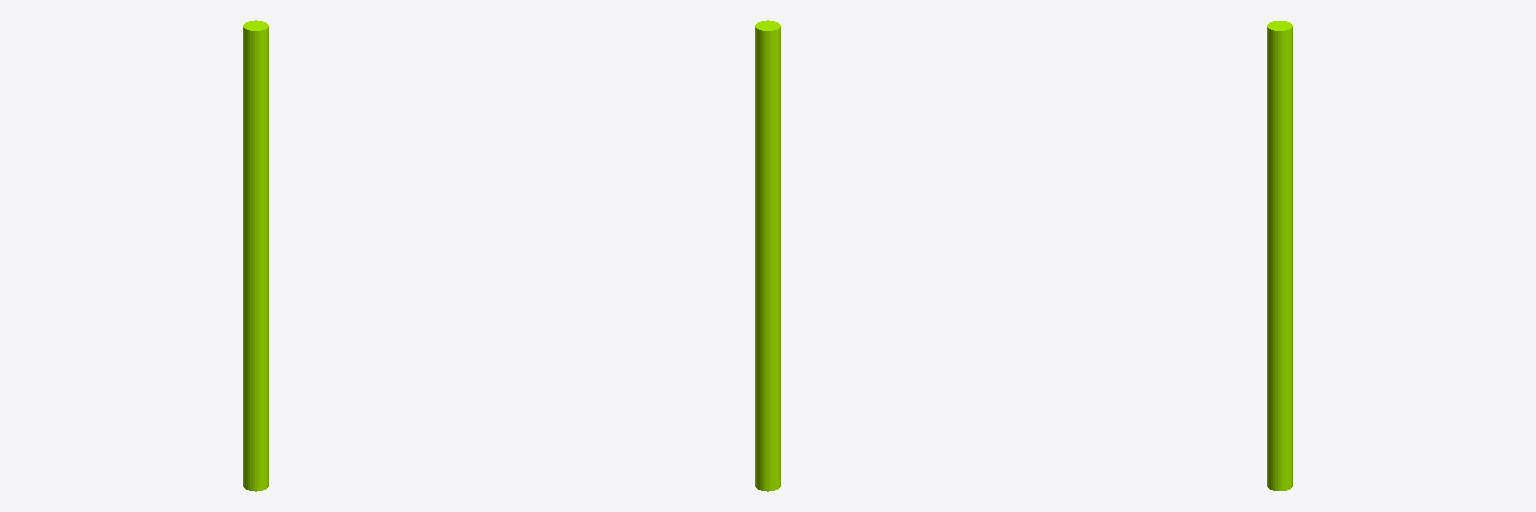
The robot description file, URDF, robot "antenna":
<?xml version="1.0" ?>

<robot name="antenna">

	<link name="antenna_link">
		<inertial>
			<mass value="10" />
			<origin xyz="0 0 0" />
			<inertia
				ixx="0.005"
				ixy="0.0"
				ixz="0.0"
				iyy="0.005"
				iyz="0.0"
				izz="0.005" />
		</inertial>
		<visual>
			<origin
				rpy="0 0 0"
				xyz="0 0 1.0" />
			<geometry>
				<cylinder
					radius="0.05"
					length="2.0" />
			</geometry>
			<material name="Orange">
				<color rgba="0.7 1.0 0.0 0.9" />
			</material>
		</visual>
		<collision>
			<origin
				rpy="0 0 0"
				xyz="0 0 1.0" />
			<geometry>
				<cylinder
					radius="0.05"
					length="2.0" />
			</geometry>
		</collision>
	</link>

</robot>

--- Render facts (derived) ---
3 views of the same robot in one strip: view 1: azimuth 30°, elevation 25°; view 2: azimuth 150°, elevation 25°; view 3: azimuth 270°, elevation 25° (orthographic).
Model antenna with 1 links and 0 joints (none), rooted at antenna_link, posed every joint at zero.
Visible links, largest first — view 1: antenna_link; view 2: antenna_link; view 3: antenna_link.
Boxes of the visible links, <box> form: antenna_link: <box>243,20,268,491</box>; antenna_link: <box>755,20,780,491</box>; antenna_link: <box>1267,21,1292,490</box>.
Bounding box of the posed robot: 0.1 × 0.1 × 2 m (x, y, z).
Geometry: primitives only (box / cylinder / sphere), no mesh files.
